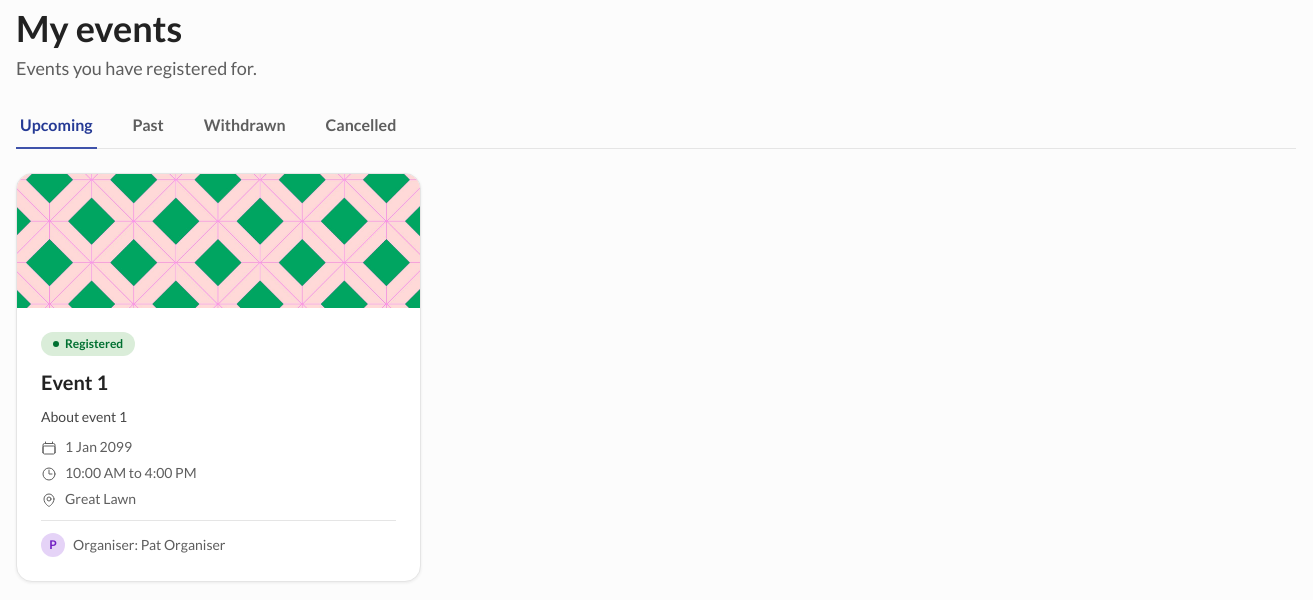
AttendeeEventsView › marks past events with a grey Event over badge
This screenshot has width=1313, height=600.
Check: the element with class "badge" reads "Registered", box [65,336,123,351]
What coordinates should you click on to do the following:
click the tab "Past"
I would click on:
 (148, 126)
Its box is [129,103,168,149].
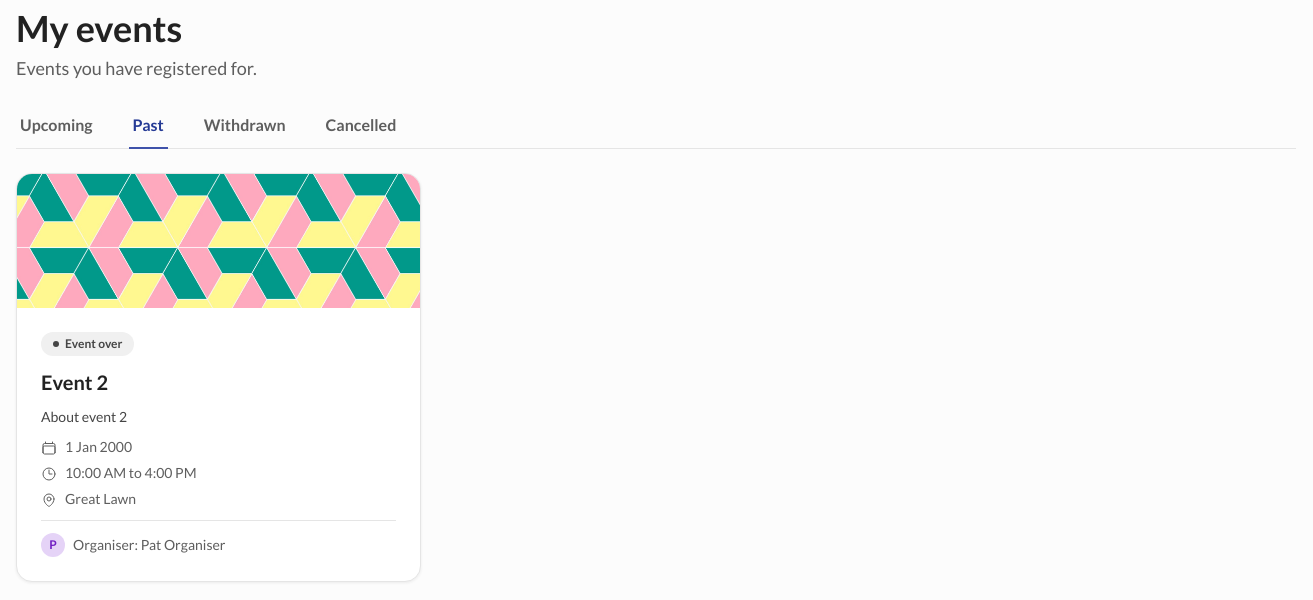
Check: the element with class "badge" reads "Event over", box [65,336,122,351]
